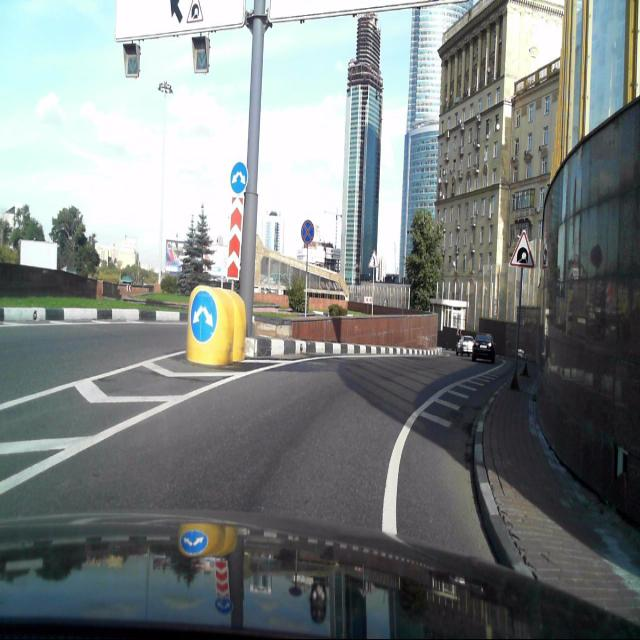road sign: (508, 223, 536, 270), (368, 248, 381, 271)
